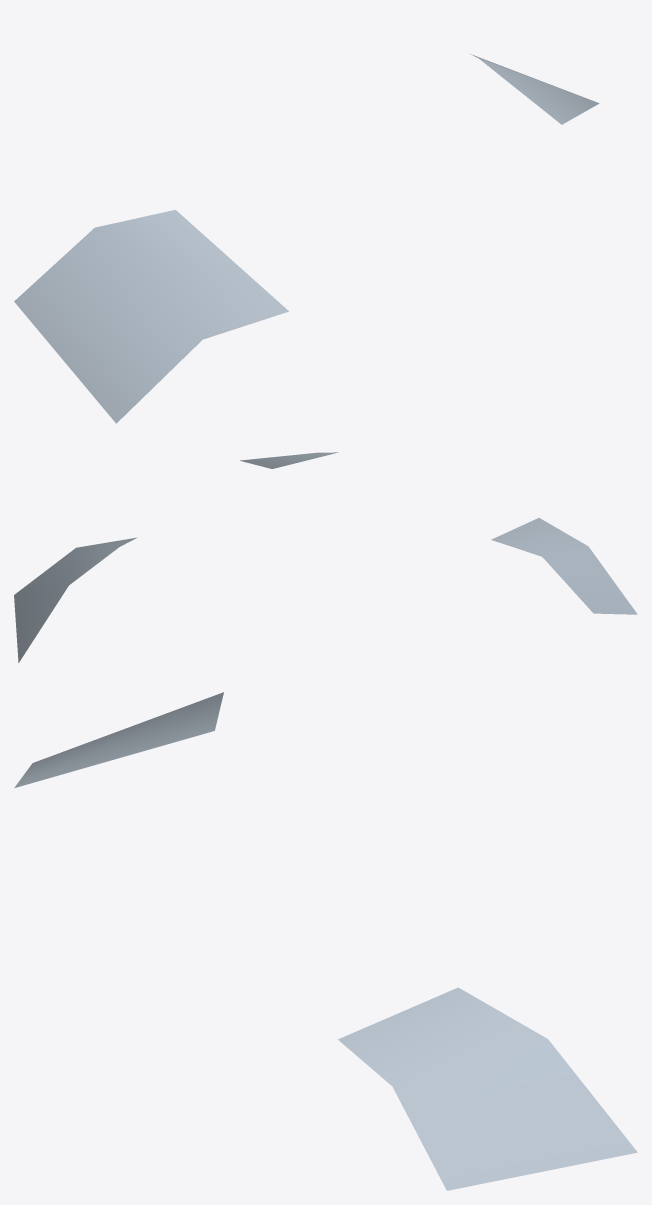
File: dorsal-cuneonavicular-ligaments-l.glb
3 renders of one model, top to bottom at view 1: azimuth 30°, elevation 25°; view 2: azimuth 150°, elevation 25°; view 3: azimuth 270°, elevation 25°, orthographic. The views are drawn at different scales.
Visible parts, largest first — view 1: Dorsal cuneonavicular ligaments.l; view 2: Dorsal cuneonavicular ligaments.l; view 3: Dorsal cuneonavicular ligaments.l.
Part boxes in pixels (x1,y1,x2,y2): Dorsal cuneonavicular ligaments.l: (14,53,599,423); Dorsal cuneonavicular ligaments.l: (14,452,637,662); Dorsal cuneonavicular ligaments.l: (14,692,637,1190).
Bounding box in the file's own units: 0.0308 × 0.0101 × 0.0209.
